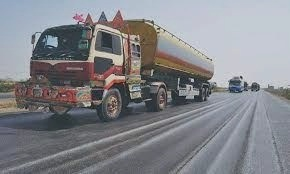truck: (28, 18, 214, 122), (227, 77, 246, 94)
